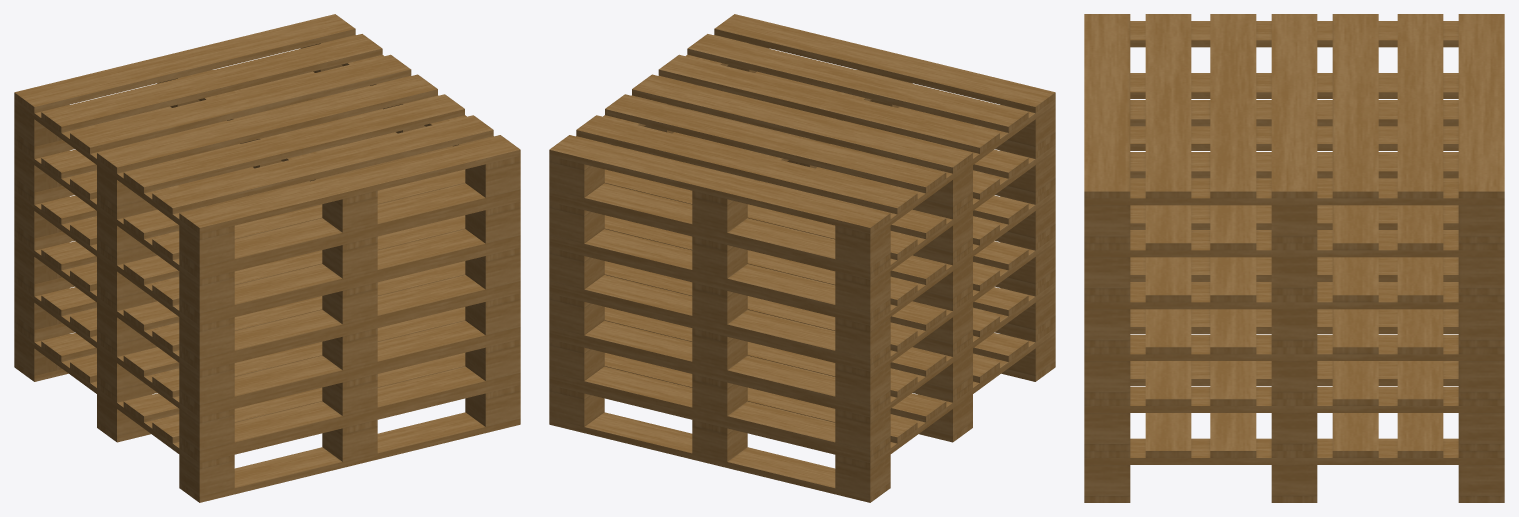
File: ob_Pallet_wood6.fbx
3 renders of one model, left to right at view 1: azimuth 30°, elevation 25°; view 2: azimuth 150°, elevation 25°; view 3: azimuth 270°, elevation 25°, orthographic. The views are drawn at different scales.
Visible parts, largest first — view 1: Pallet_Wood6; view 2: Pallet_Wood6; view 3: Pallet_Wood6.
Part boxes in pixels (x1=…): Pallet_Wood6: x1=14, y1=14, x2=520, y2=502; Pallet_Wood6: x1=549, y1=14, x2=1055, y2=502; Pallet_Wood6: x1=1084, y1=14, x2=1504, y2=502.
Bounding box in the file's own units: 110 × 90 × 110.
